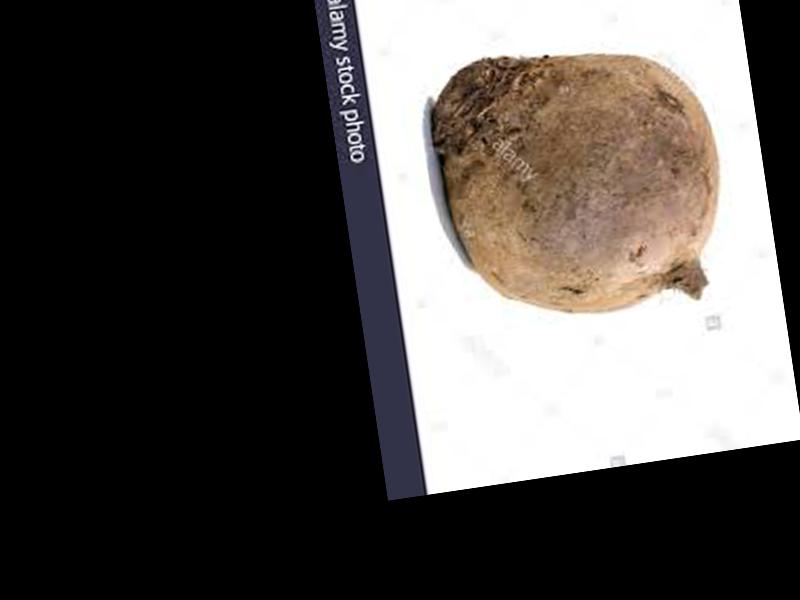Beet: (423, 29, 737, 335)
